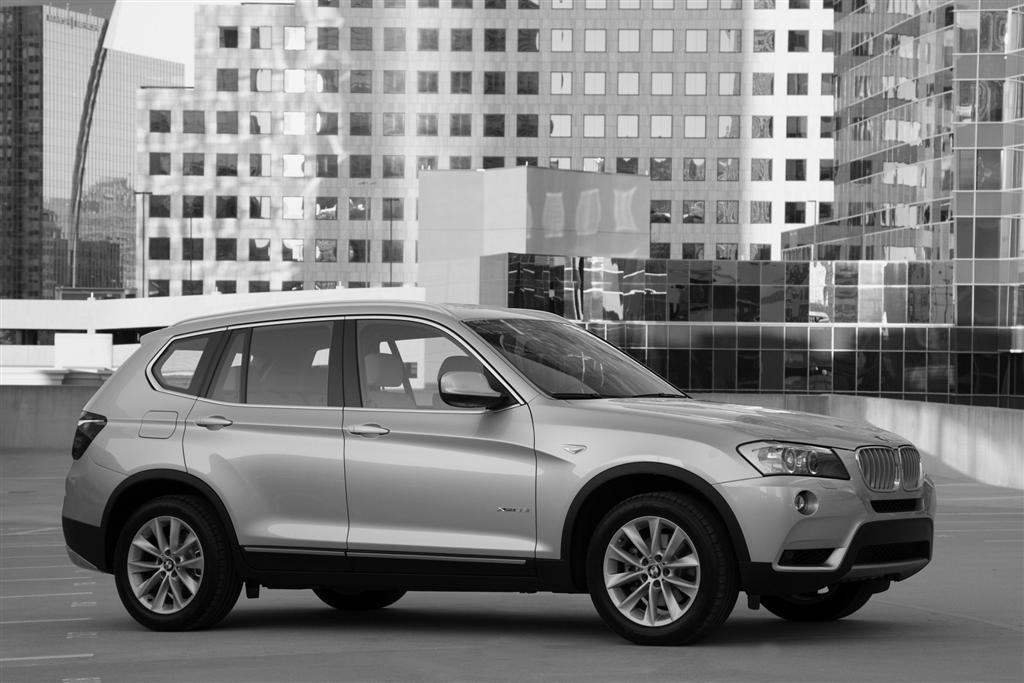car: (61, 300, 940, 651)
